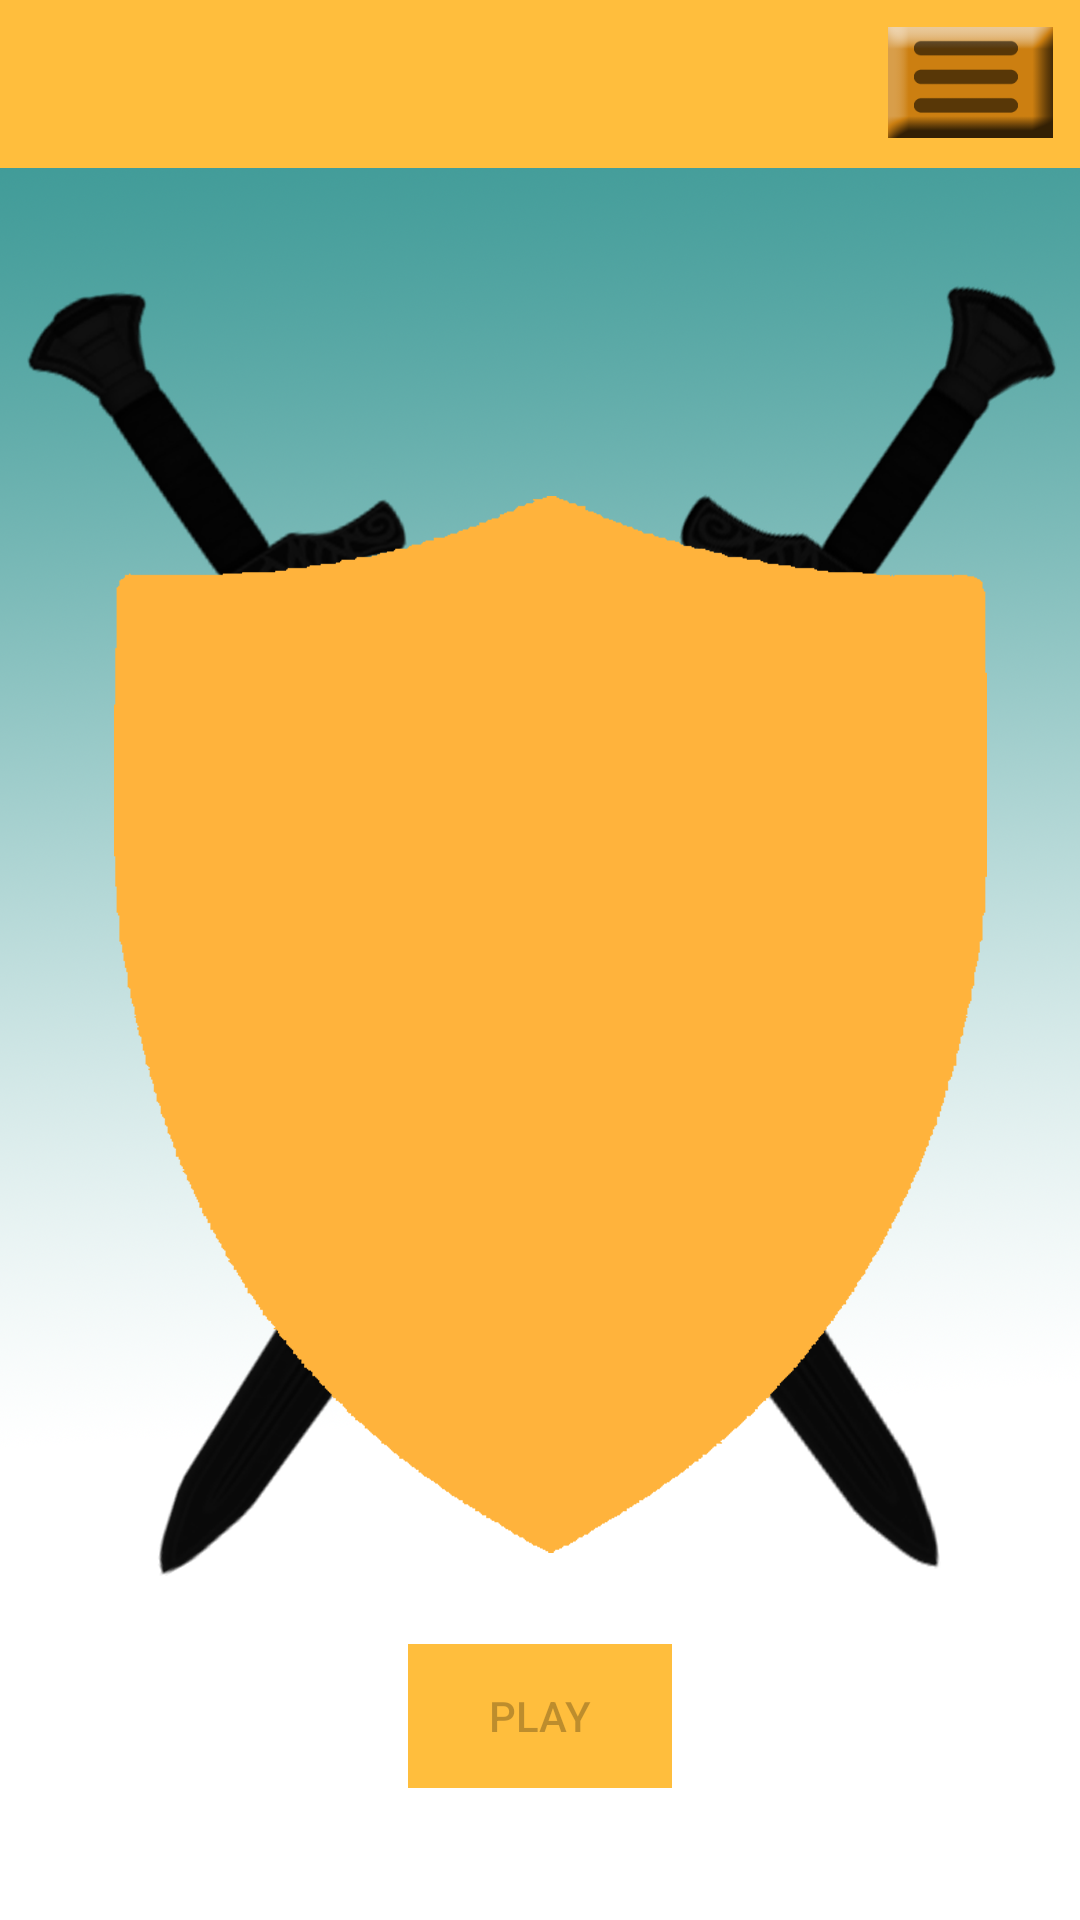

Named icons in this screenshot (1080x1920) and their bounding boxes, Rect(x1, y1, x2, y2):
menue action: Rect(888, 27, 1053, 138)
